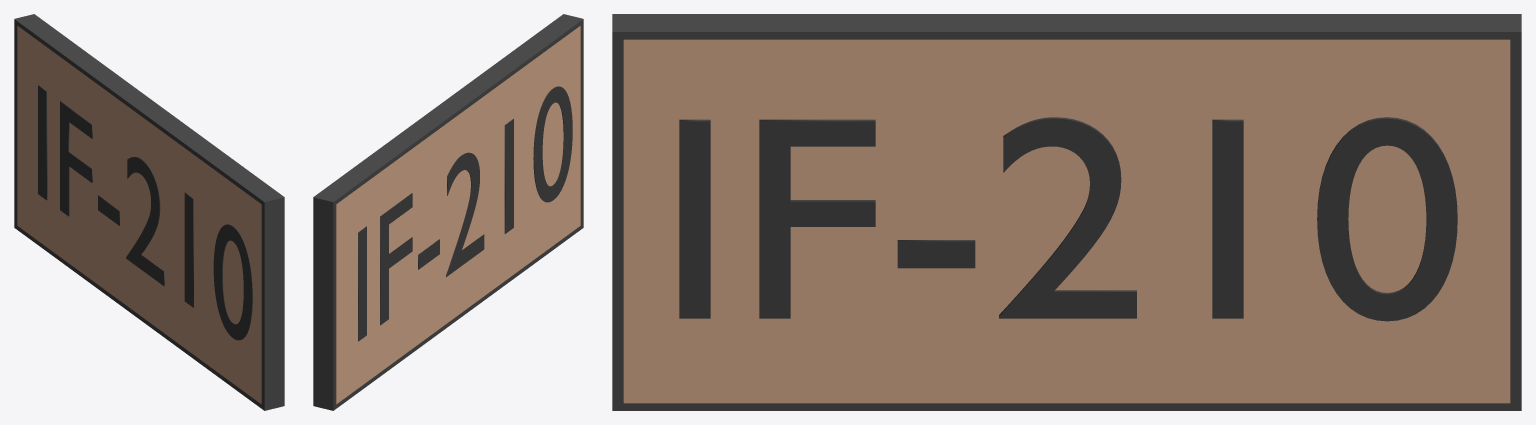
3 renders of one model, left to right at view 1: azimuth 30°, elevation 25°; view 2: azimuth 150°, elevation 25°; view 3: azimuth 270°, elevation 25°, orthographic. The views are drawn at different scales.
Parts seen in each view (by area): view 1: Cube, Text.001; view 2: Cube, Text.001; view 3: Cube, Text.
Boxes of the visible parts, x1,y1,x2,y2 form: Cube: (14,14,284,410); Text.001: (38,85,252,340); Cube: (313,14,583,410); Text.001: (358,86,572,341); Cube: (612,14,1521,410); Text: (679,117,1457,321).
Size of the model in its own units: 11.55 by 102 by 222.
